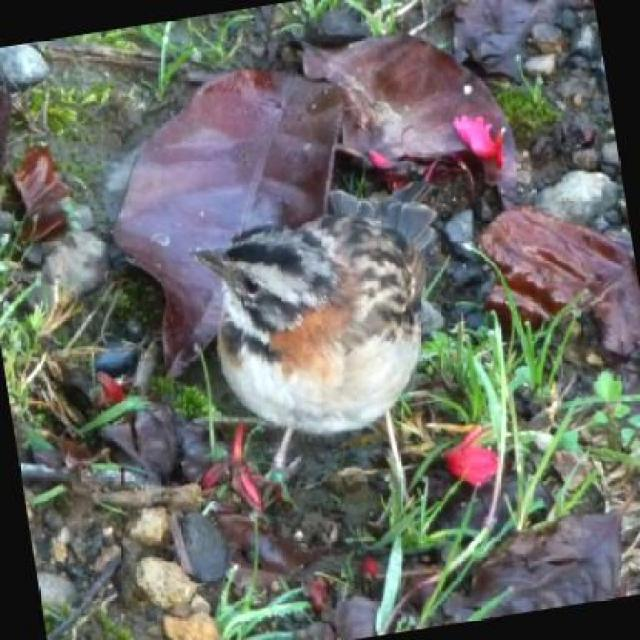Bird: (184, 211, 425, 440)
